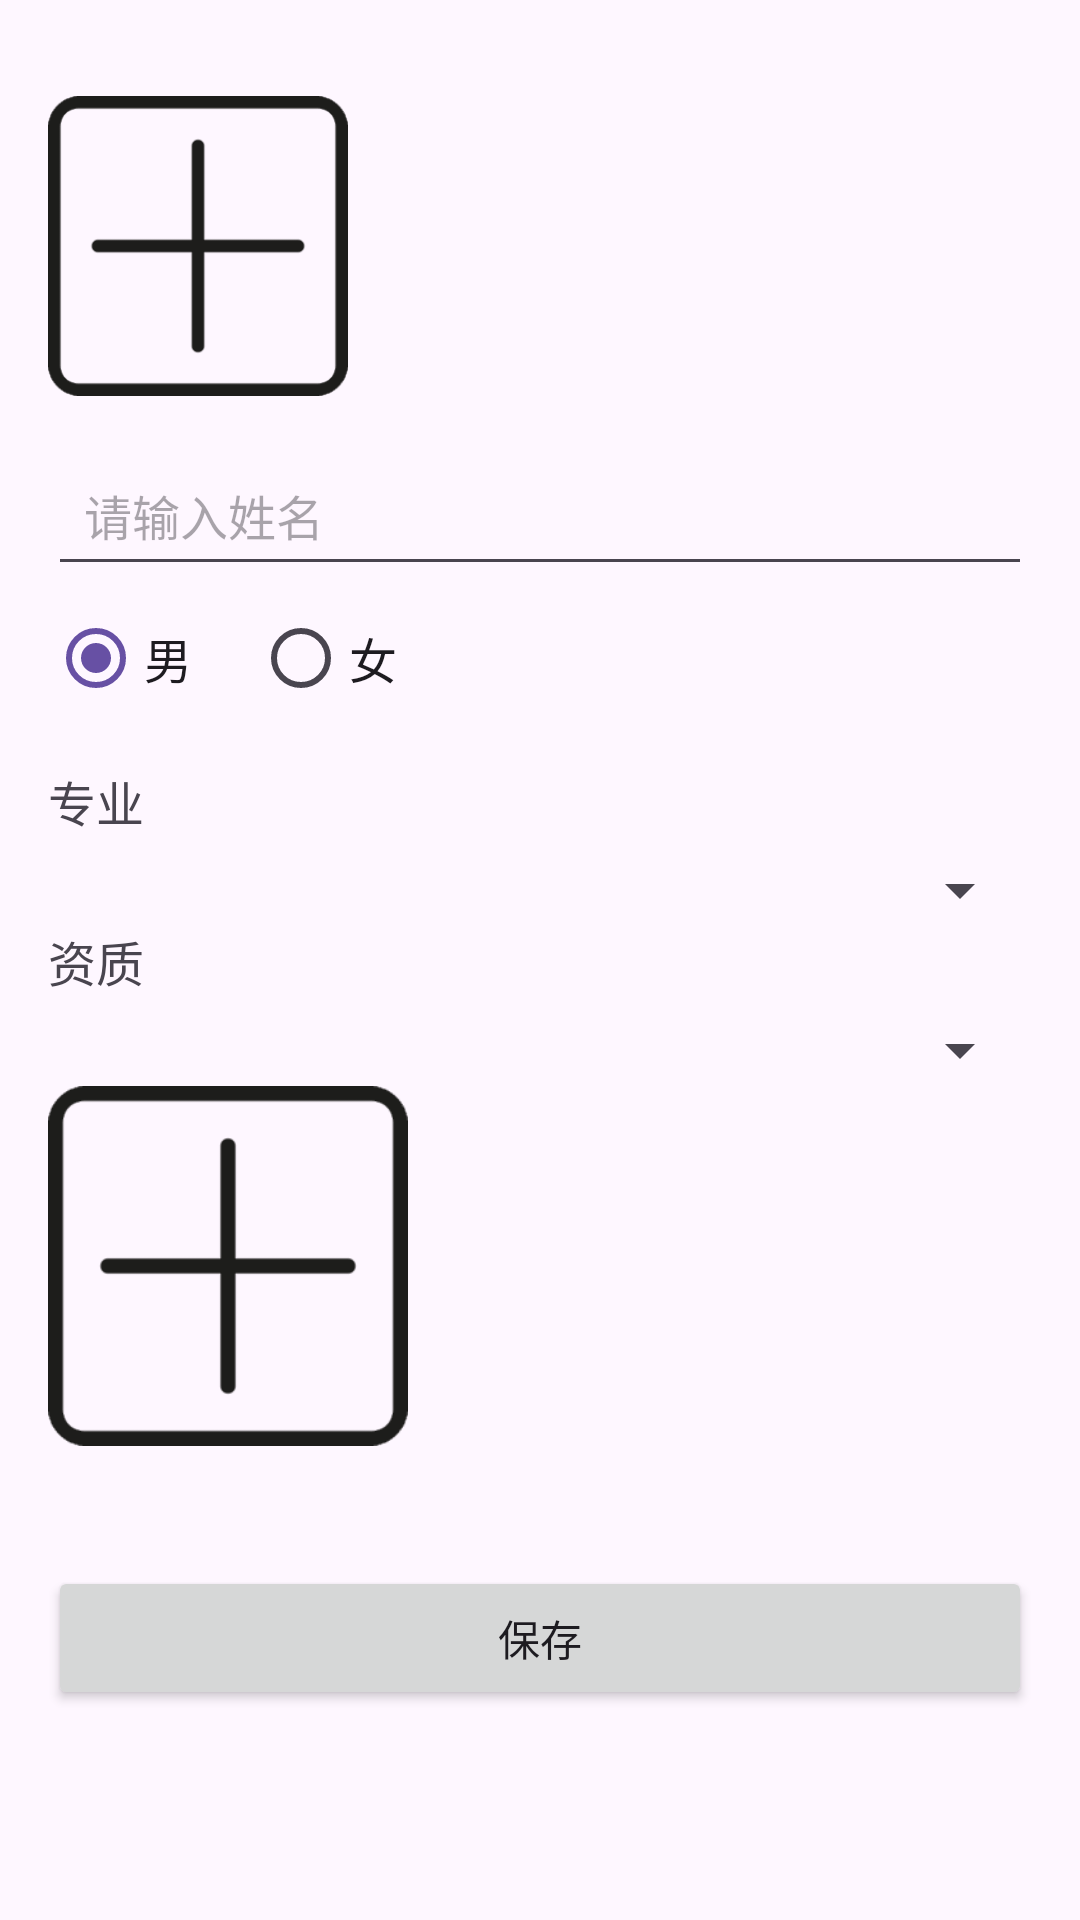

Screen size 1080x1920. Icon name, then its box in pixels as (x1, y1, x2, y2):
点击上传头像: (48, 96, 348, 396)
点击上传证书: (48, 1086, 408, 1446)
